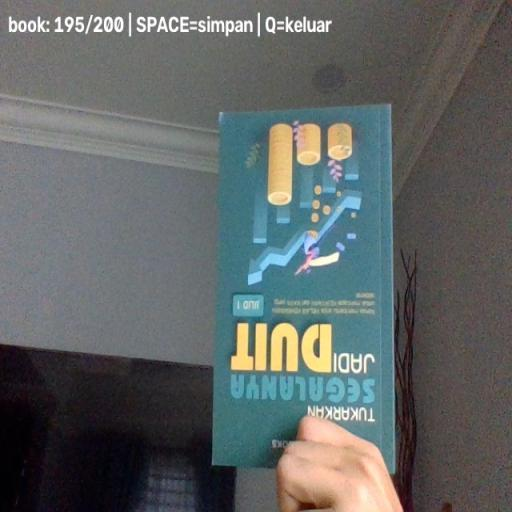Book: (210, 103, 394, 476)
